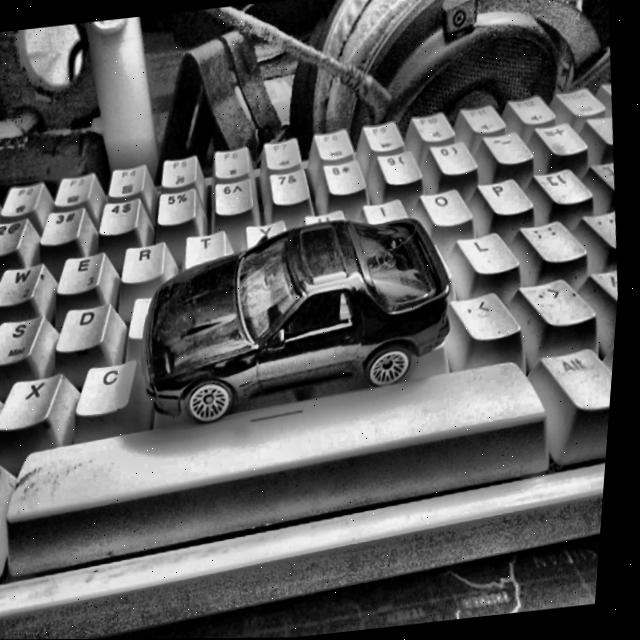car: (129, 207, 471, 430)
